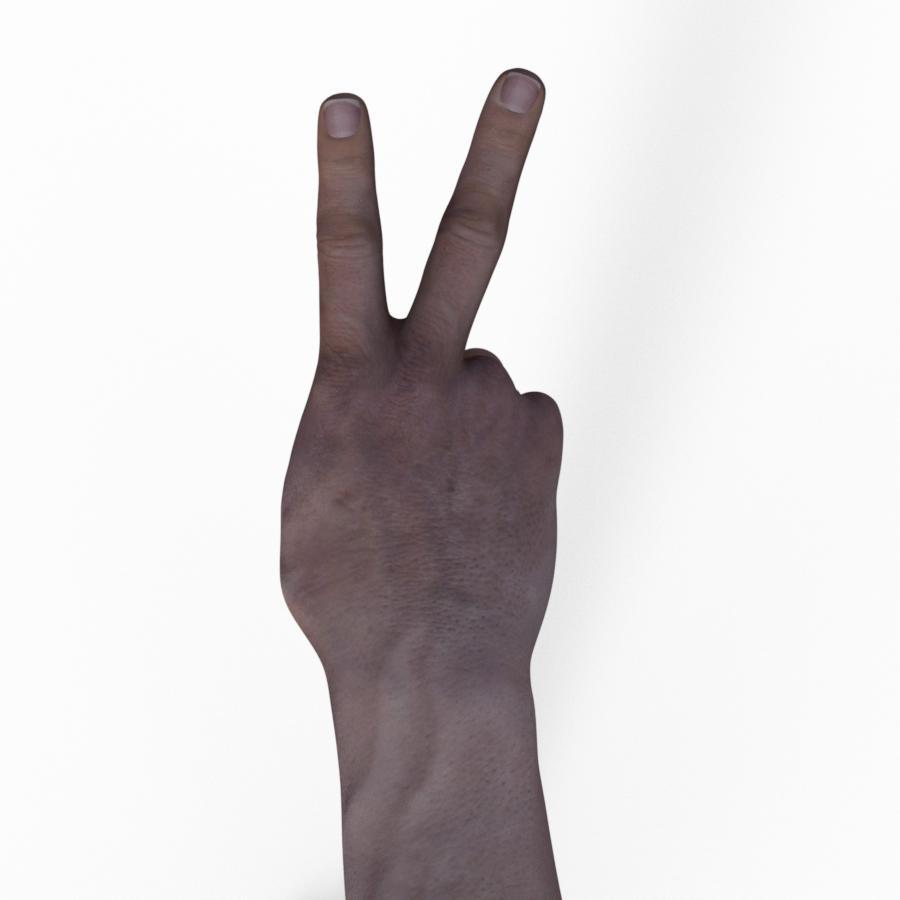scissors: (281, 70, 562, 899)
